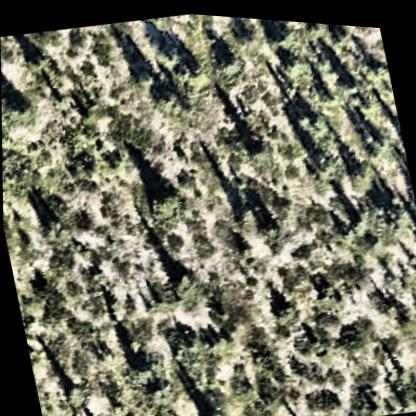tree-top: (169, 47, 214, 87), (123, 346, 164, 387), (139, 178, 180, 217), (291, 94, 329, 136), (343, 146, 377, 187), (268, 16, 305, 53), (148, 36, 184, 70), (211, 40, 246, 73), (3, 90, 36, 123), (367, 123, 397, 155), (266, 285, 295, 318), (22, 42, 52, 73), (35, 210, 63, 241), (168, 264, 197, 293), (252, 209, 281, 238), (59, 375, 86, 406), (242, 129, 269, 160), (340, 68, 358, 93), (201, 403, 229, 416)
